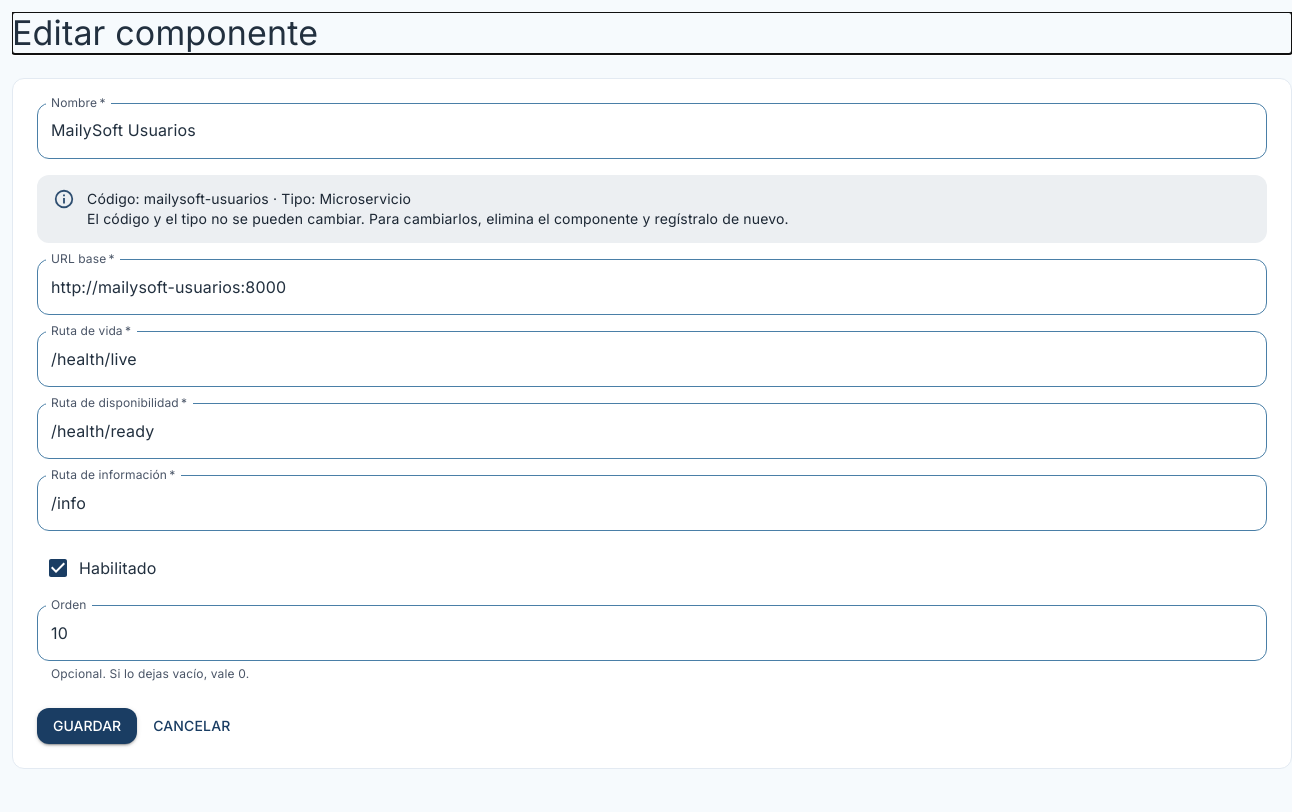
Test: MonitoredComponentEditPage › sends only what changed, tells so and goes back to the detail
Replace the text in the field labelled "Nombre *" with "Usuarios" at (652, 131), box [37,103,1267,159]
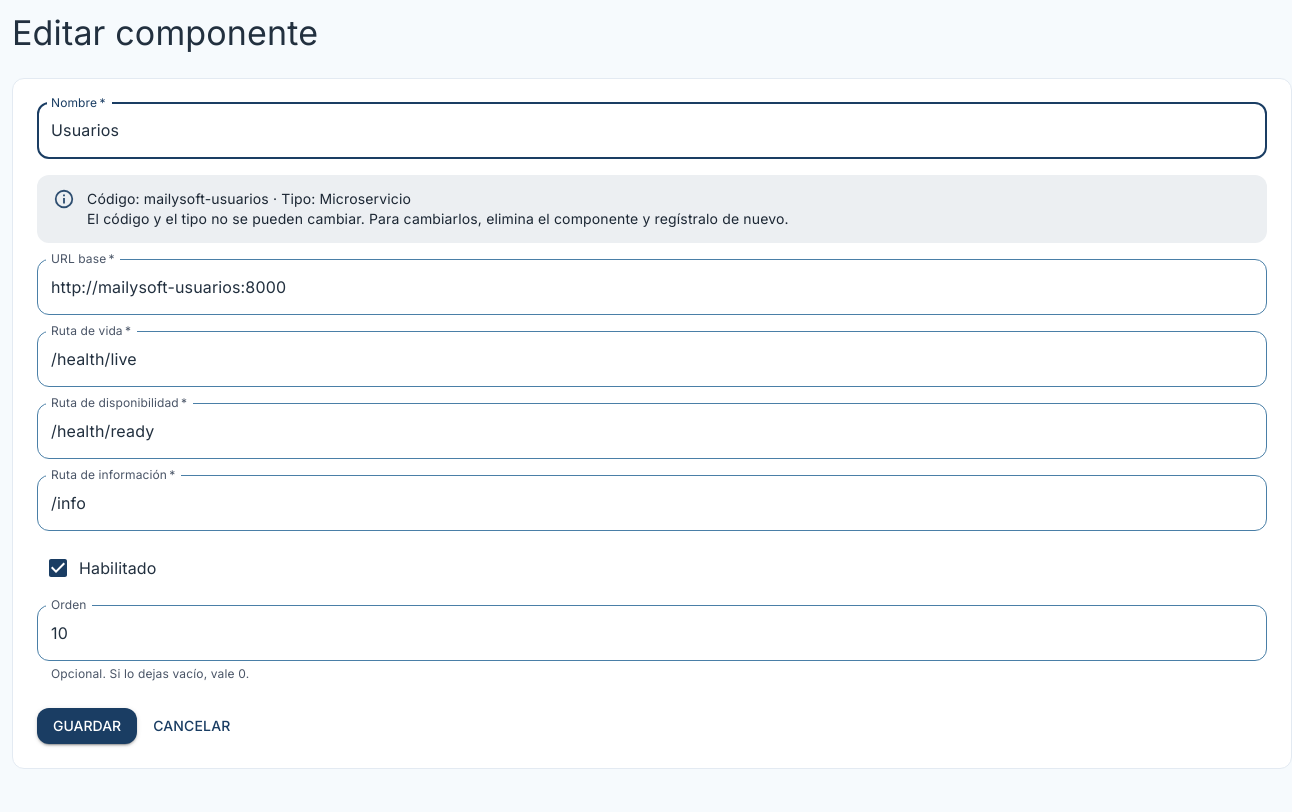
Click the checkbox labelled "Habilitado".
click(101, 568)  # box [46,556,156,580]
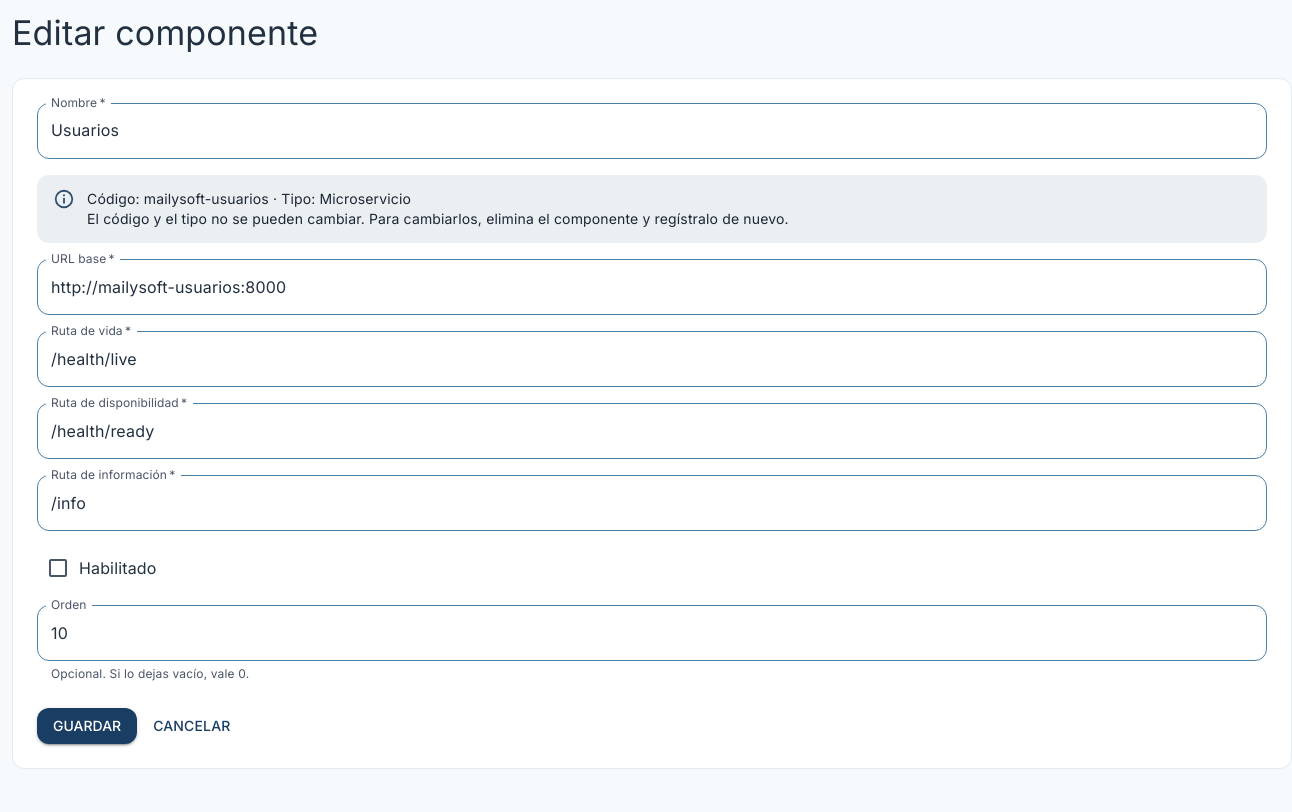
Click the button "Guardar".
click(87, 726)  # box [37,708,137,744]
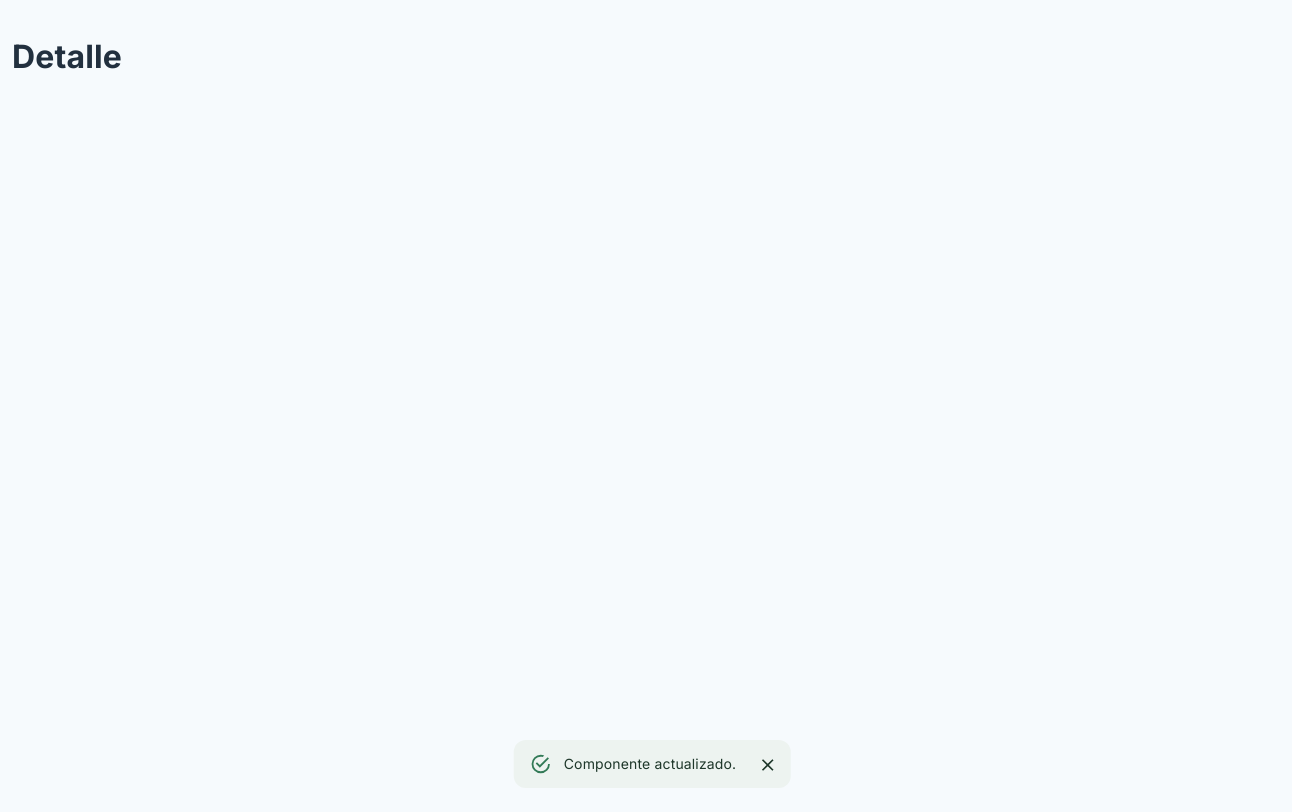
Result: the heading "Detalle" is shown at [12,37,122,76]
Result: the text "Componente actualizado." is shown at [564,755,736,772]
